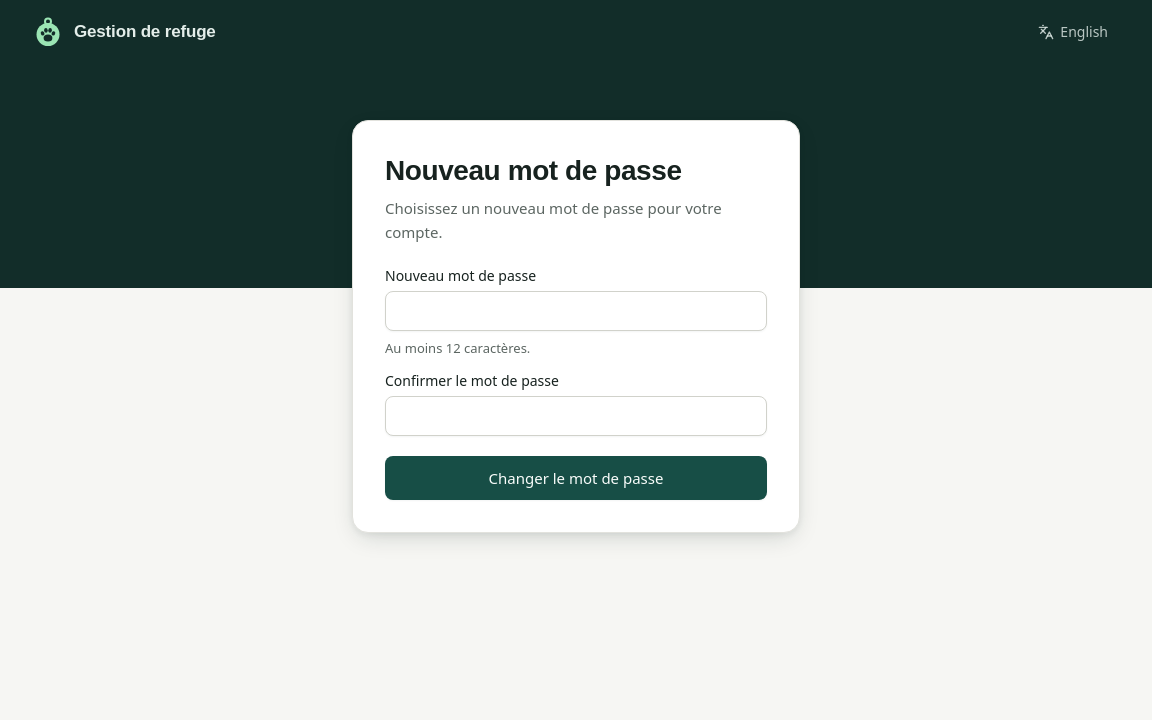
Scenario: forms › says so when the server turns away too many attempts
Step 1. Type "long enough pass" into the password field labelled "Nouveau mot de passe" → (576, 311), box [385,291,767,331]
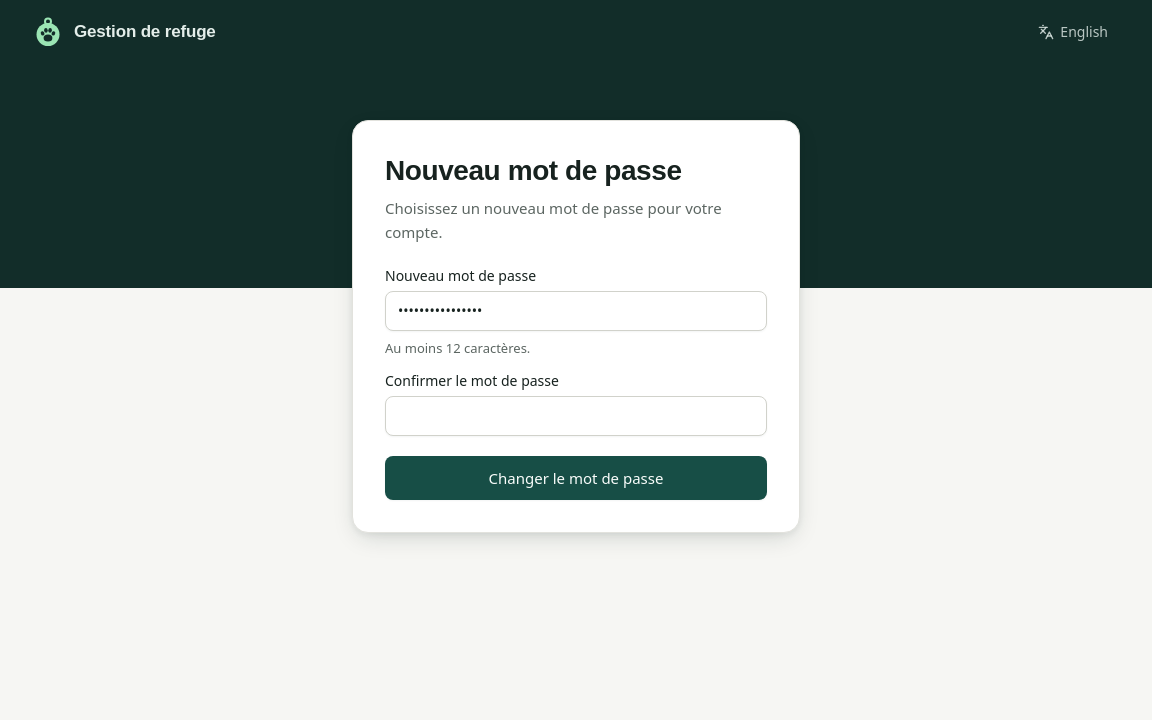
Step 2. Type "long enough pass" into the password field labelled "Confirmer le mot de passe" → (576, 416), box [385,396,767,436]
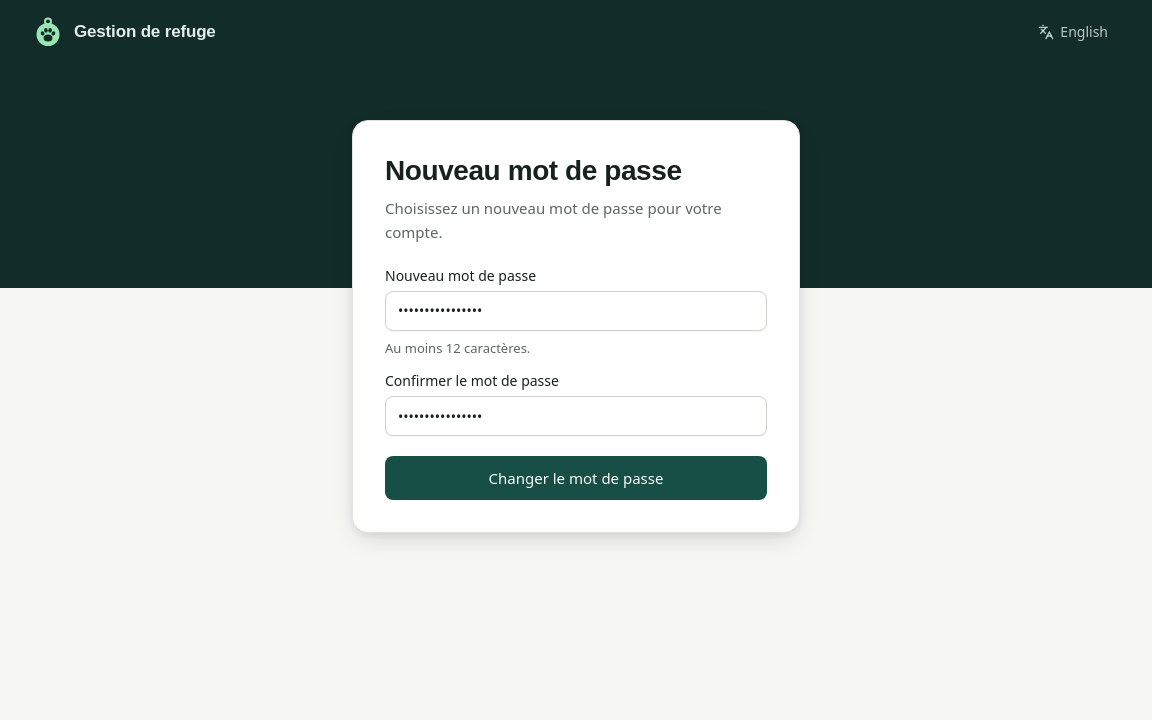
Step 3. Click the button "Changer le mot de passe" → (576, 478), box [385,456,767,500]
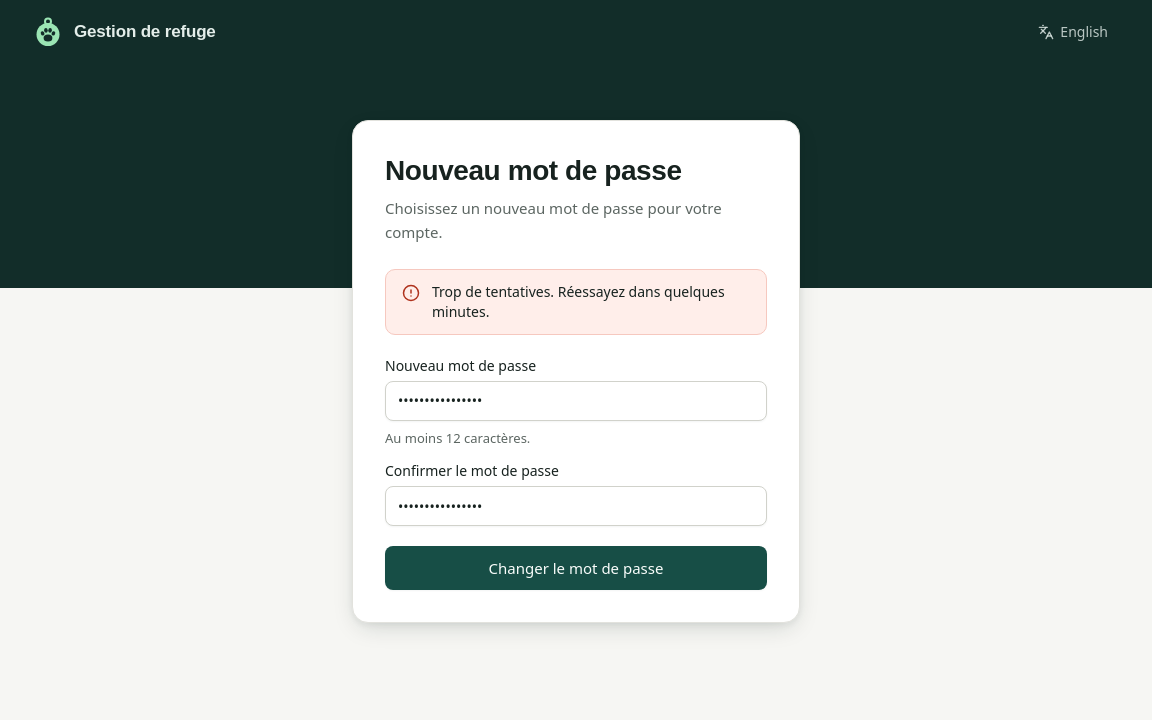
expect the text "Trop de tentatives. Réessayez dans quelques minutes." is shown: met, box [432,282,750,322]
